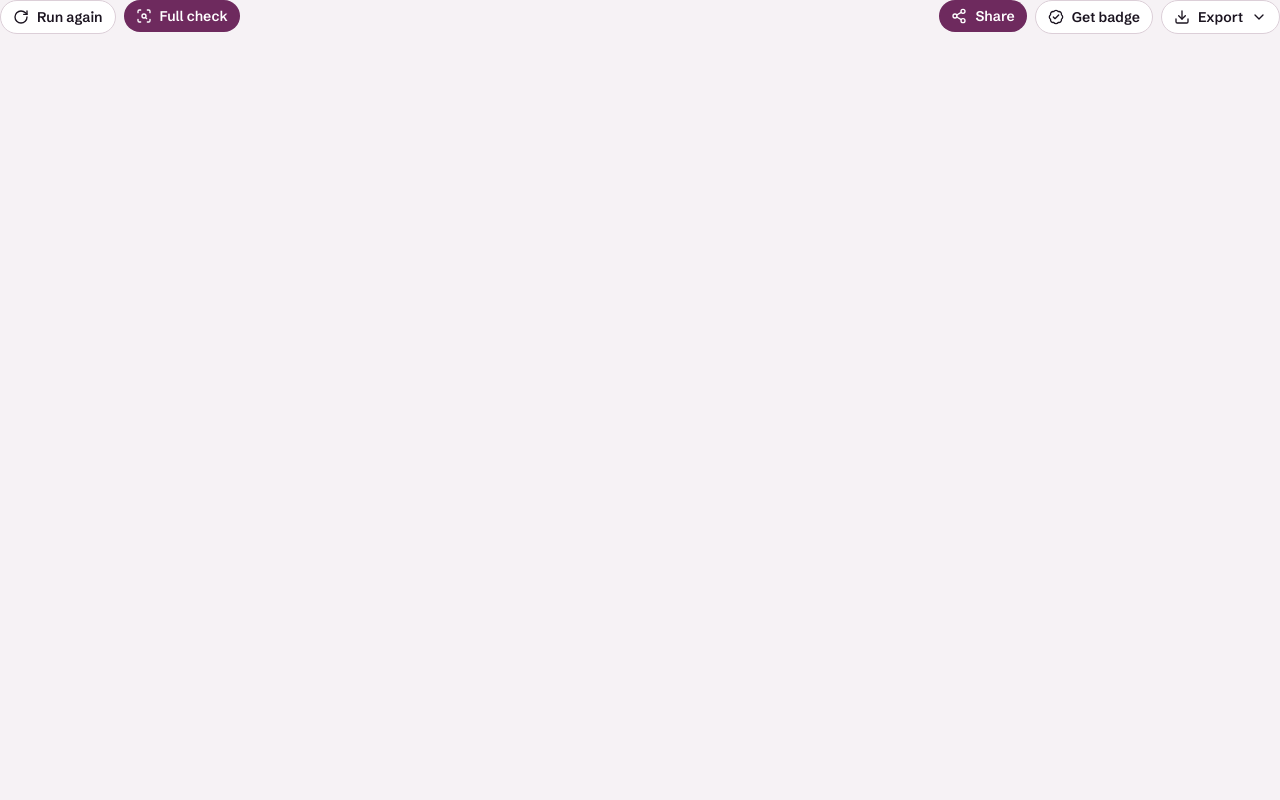
Test: ReportActions › clears the error when the Share dialog closes
Click the button "Share": (983, 16) [939,0,1027,32]
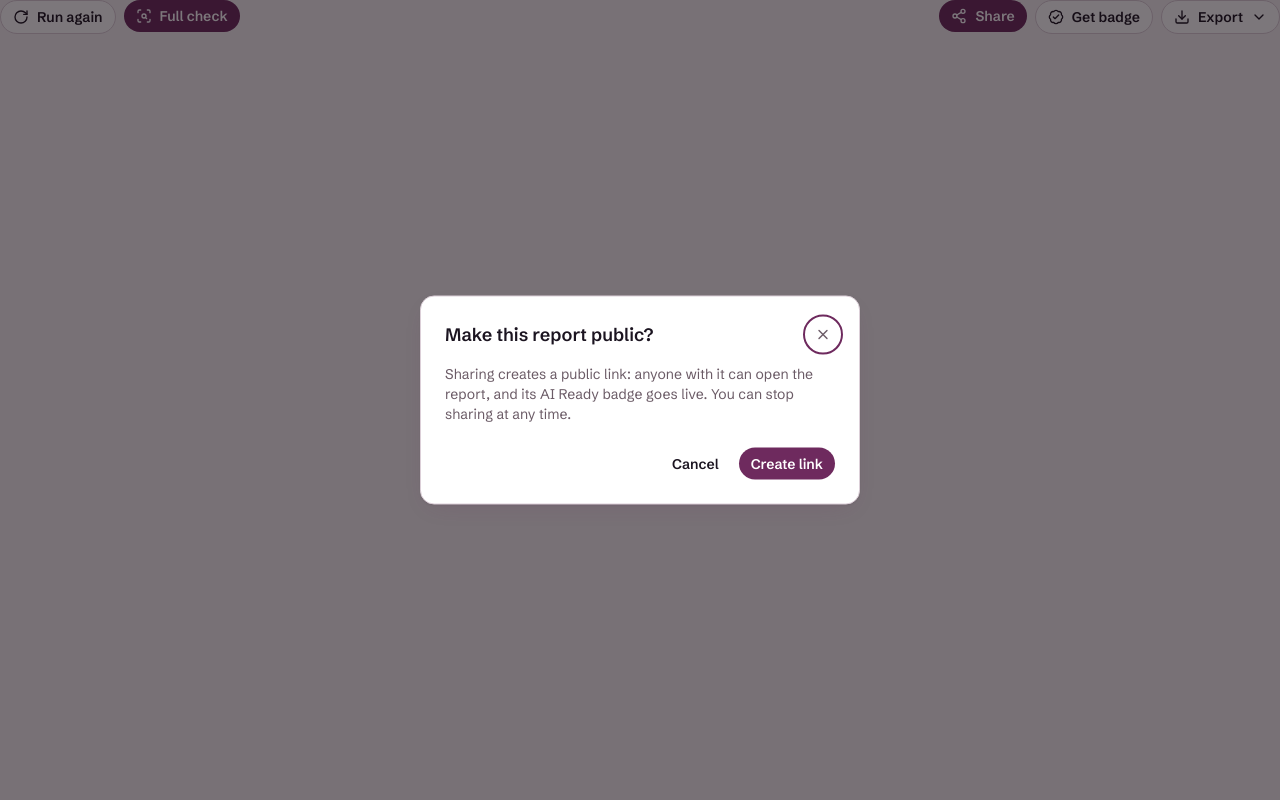
Click the button "Create link": (787, 464) [739,448,835,480]
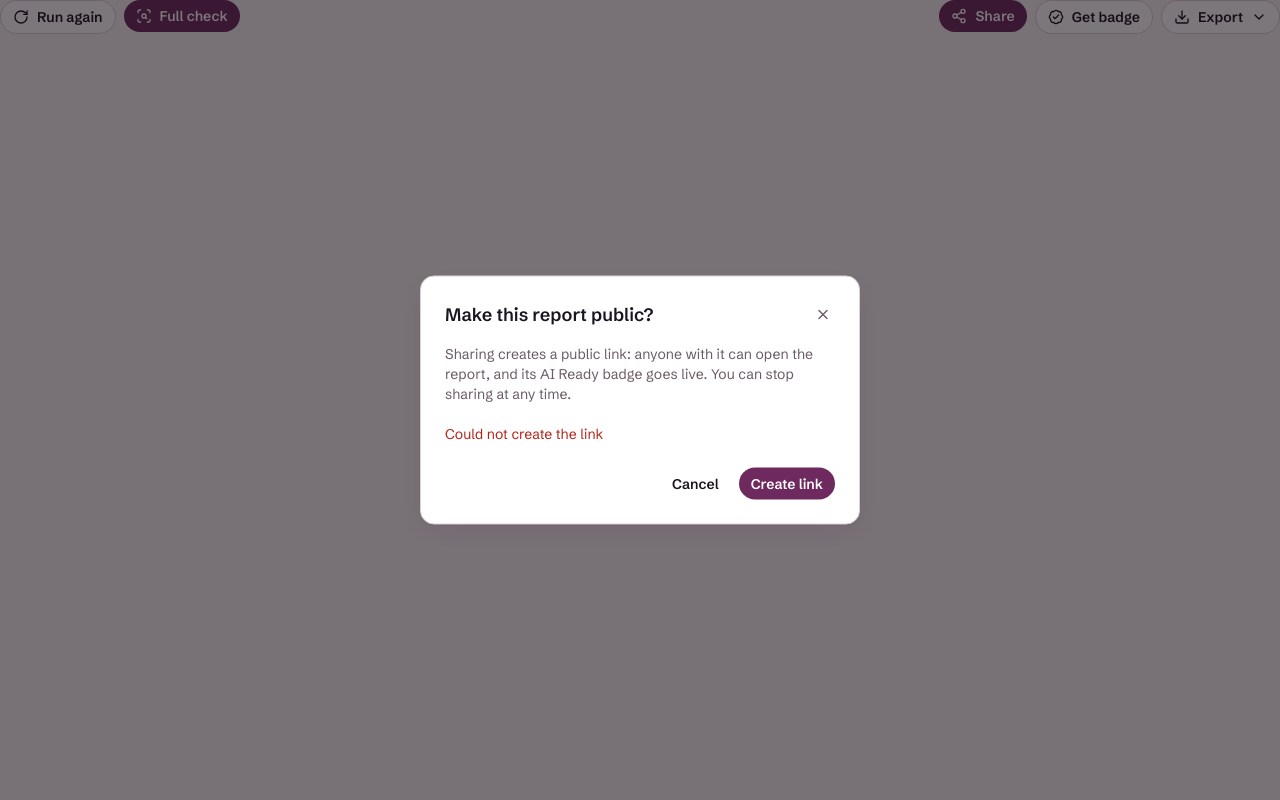
Now the text "Could not create the link" is shown, box [445,424,603,442]
Click the button "Cancel": (695, 484) [660,468,731,500]
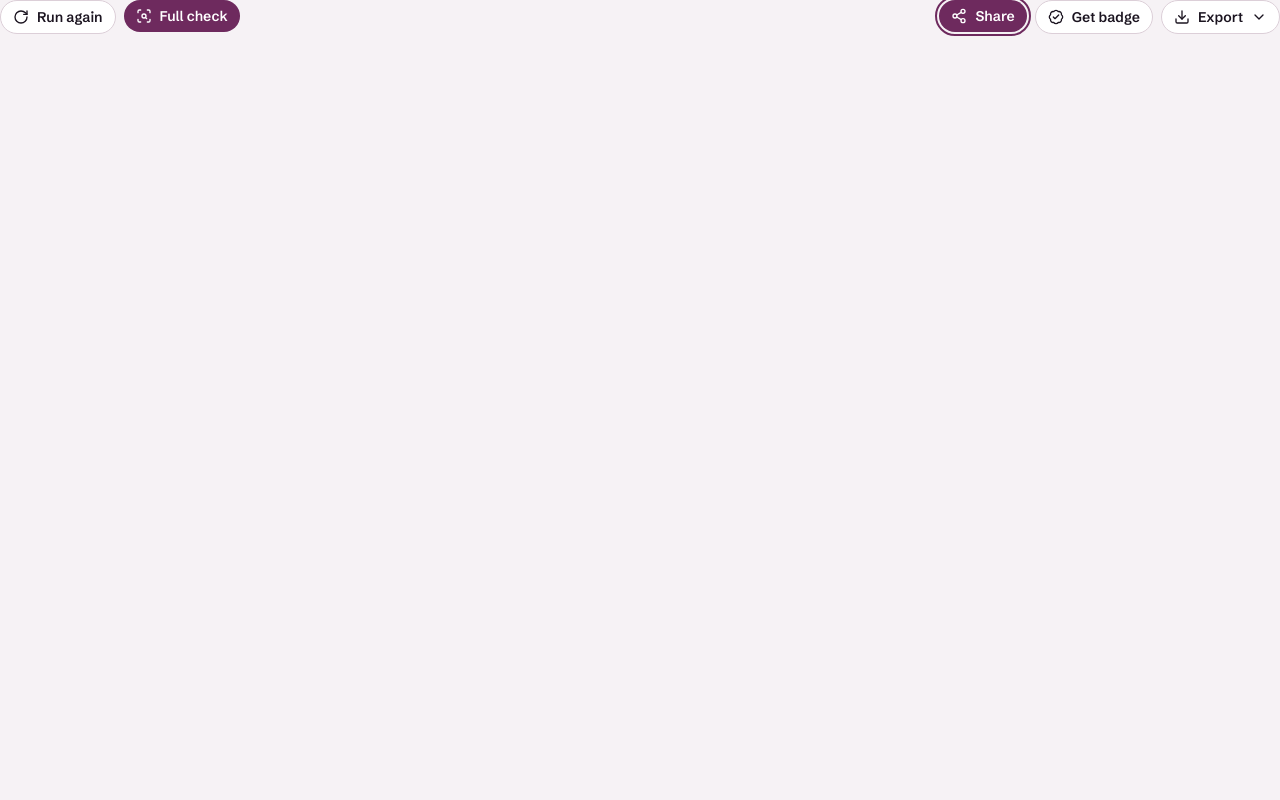
Now the dialog is gone
Click the button "Share": (983, 16) [939,0,1027,32]
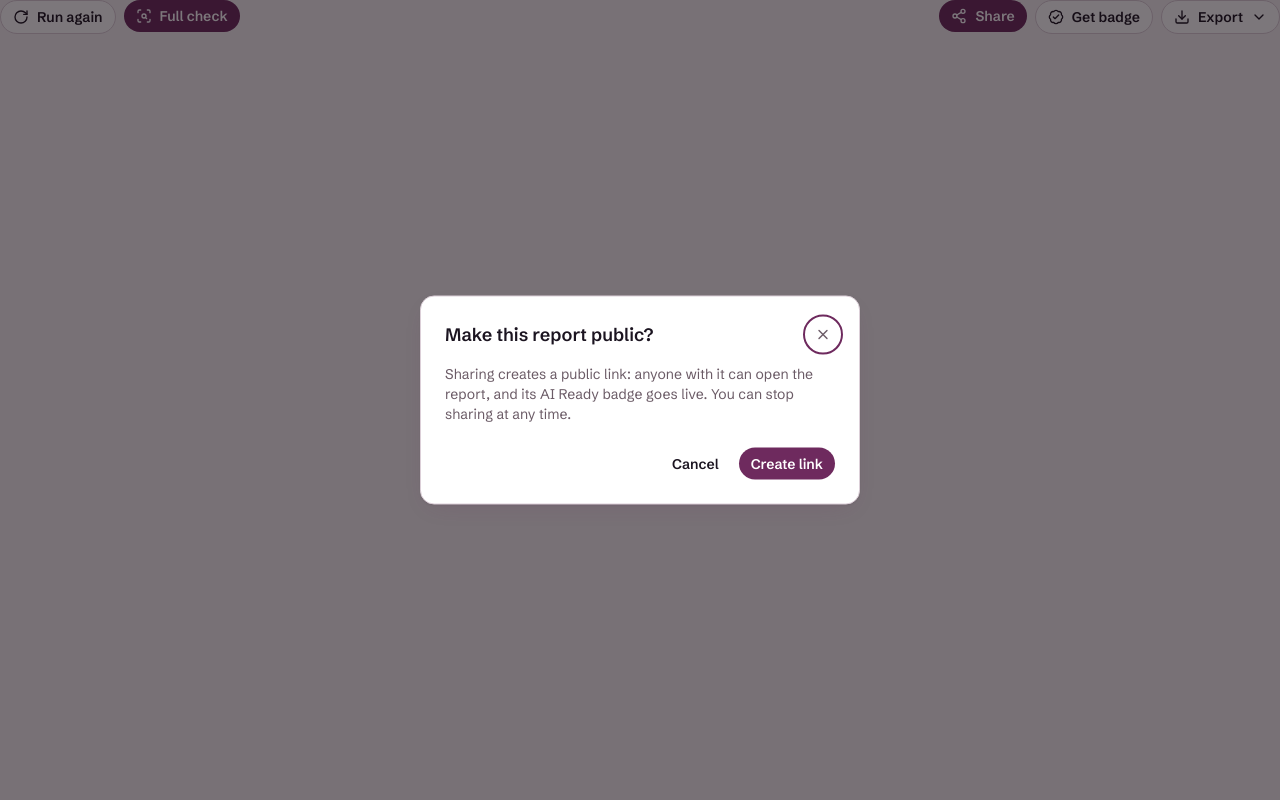
Expected: the text "Could not create the link" is not shown
Now the dialog "Make this report public?" is shown, box [420,296,860,504]
